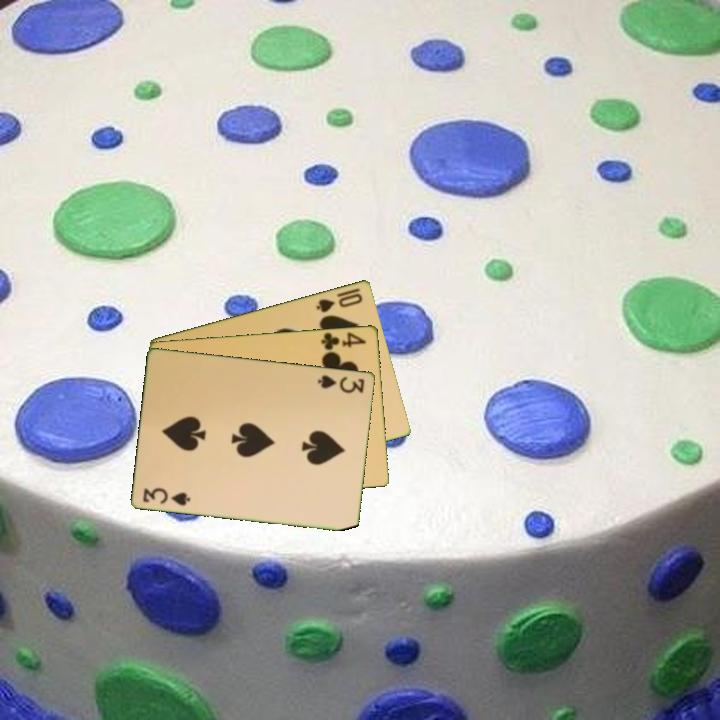10s: (313, 289, 366, 315)
3s: (314, 371, 367, 396), (140, 484, 194, 508)
4c: (318, 328, 369, 353)
